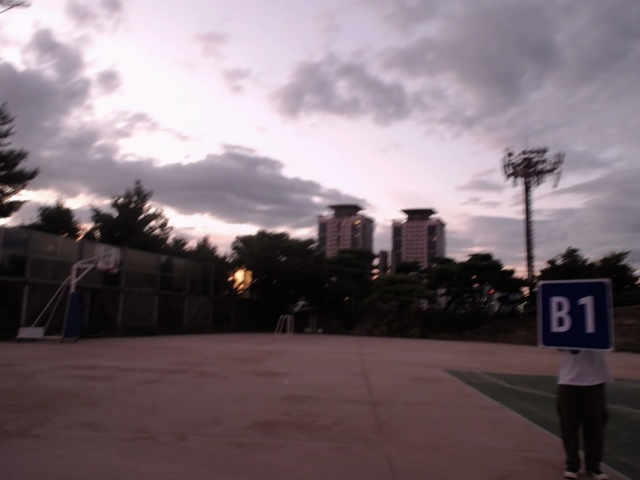delivery_b1: (539, 280, 612, 352)
